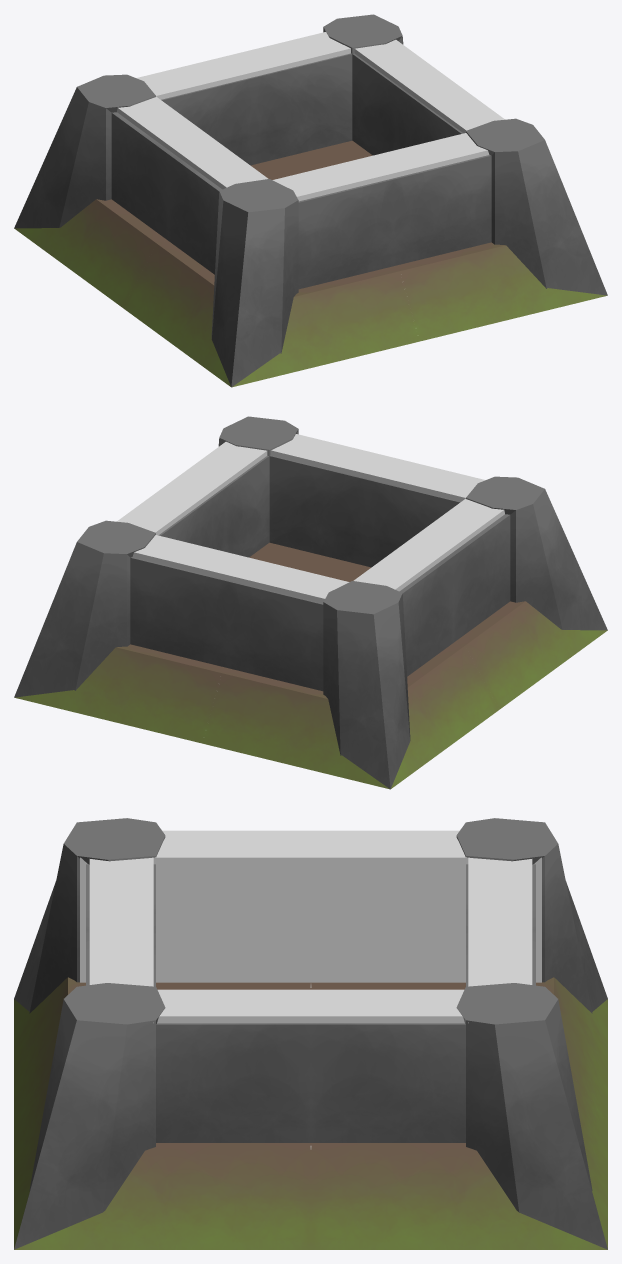
Rendered from Fortress.fbx.
3 renders of one model, top to bottom at view 1: azimuth 30°, elevation 25°; view 2: azimuth 150°, elevation 25°; view 3: azimuth 270°, elevation 25°, orthographic. The views are drawn at different scales.
Visible parts, largest first — view 1: Armature, BB_ALL.002, BB_ALL.003, BB_ALL.001, BB_ALL; view 2: Armature, BB_ALL.003, BB_ALL.002, BB_ALL.001, BB_ALL; view 3: Armature, BB_ALL, BB_ALL.001, BB_ALL.003, BB_ALL.002.
Boxes of the visible parts, x1,y1,x2,y2 form: Armature: (14, 14, 607, 387); BB_ALL.002: (136, 32, 350, 99); BB_ALL.003: (272, 133, 489, 201); BB_ALL.001: (354, 39, 504, 133); BB_ALL: (117, 96, 268, 189); Armature: (14, 416, 607, 789); BB_ALL.003: (271, 434, 485, 501); BB_ALL.002: (132, 535, 349, 603); BB_ALL.001: (117, 441, 267, 535); BB_ALL: (353, 498, 504, 591); Armature: (14, 818, 607, 1249); BB_ALL: (80, 830, 541, 982); BB_ALL.001: (157, 989, 464, 1023); BB_ALL.003: (89, 857, 153, 1023); BB_ALL.002: (468, 857, 532, 1023).
Bounding box in the file's own units: 200 × 75.43 × 200.
1 material, 1 textured.
